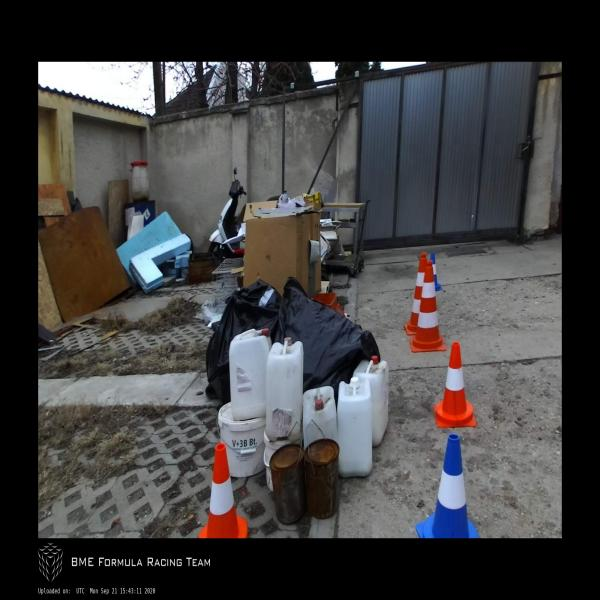blue_cone: (416, 433, 480, 538), (429, 253, 442, 291)
large_orange_cone: (410, 261, 447, 352), (405, 252, 428, 336)
orange_cone: (198, 443, 248, 538), (434, 342, 476, 427)
